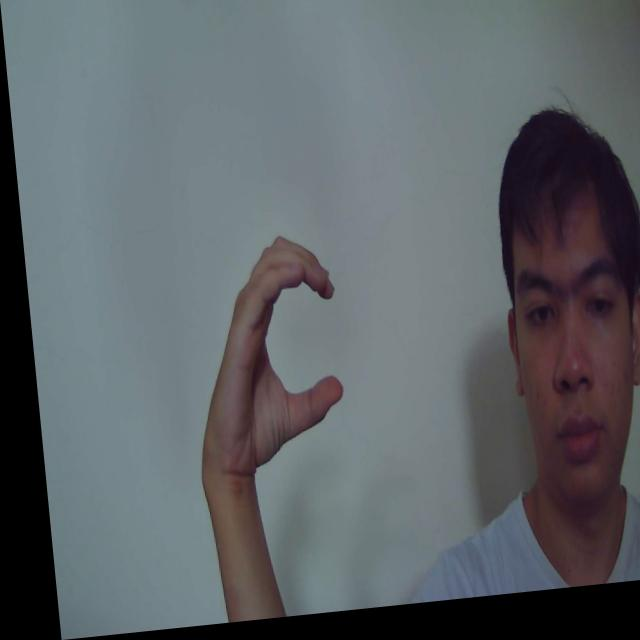C: (175, 234, 342, 479)
